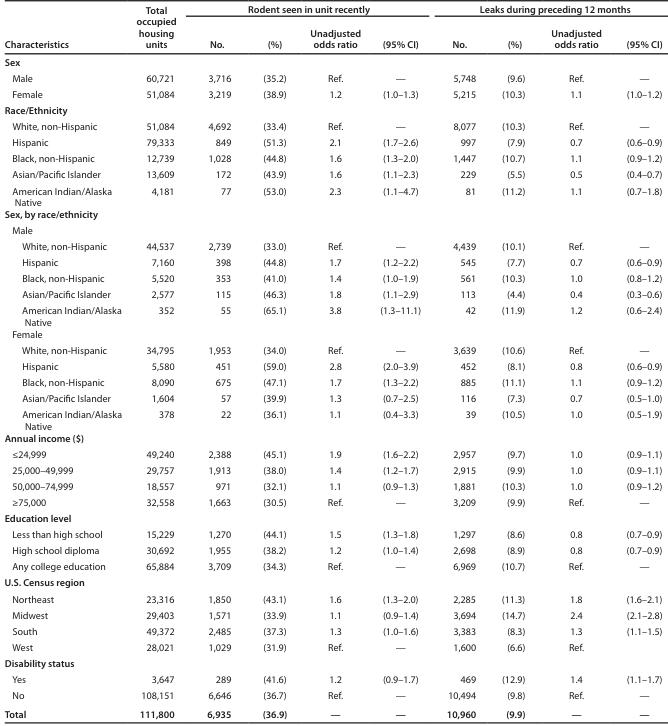table: (3, 4, 661, 719)
table column: (3, 4, 128, 719), (537, 4, 613, 719), (297, 4, 369, 719), (369, 4, 432, 719), (128, 4, 190, 719), (190, 4, 246, 719), (432, 4, 488, 719), (246, 4, 297, 719), (488, 4, 537, 719), (613, 4, 661, 719)
table column header: (3, 4, 661, 53)
table projected row header: (3, 53, 661, 70), (3, 102, 661, 118), (3, 222, 661, 238), (3, 510, 661, 526), (3, 574, 661, 590), (3, 655, 661, 671), (3, 208, 661, 222), (3, 328, 661, 342), (3, 431, 661, 445)
table row: (3, 21, 661, 53), (3, 182, 661, 208), (3, 302, 661, 328), (3, 406, 661, 431), (3, 687, 661, 705), (3, 4, 661, 21), (3, 53, 661, 70), (3, 461, 661, 478), (3, 622, 661, 639), (3, 70, 661, 86), (3, 86, 661, 102), (3, 102, 661, 118), (3, 118, 661, 134), (3, 134, 661, 150), (3, 150, 661, 166), (3, 166, 661, 182), (3, 222, 661, 238), (3, 238, 661, 254), (3, 254, 661, 270), (3, 270, 661, 286), (3, 286, 661, 302), (3, 342, 661, 358), (3, 358, 661, 374), (3, 374, 661, 390), (3, 390, 661, 406), (3, 445, 661, 461), (3, 478, 661, 494), (3, 494, 661, 510), (3, 510, 661, 526), (3, 526, 661, 542), (3, 542, 661, 558), (3, 558, 661, 574), (3, 574, 661, 590), (3, 590, 661, 606), (3, 606, 661, 622), (3, 639, 661, 655), (3, 655, 661, 671), (3, 671, 661, 687), (3, 208, 661, 222), (3, 328, 661, 342), (3, 431, 661, 445), (3, 705, 661, 719)
table spanning cell: (3, 4, 128, 53), (190, 4, 432, 21), (432, 4, 661, 21), (128, 4, 190, 53)
